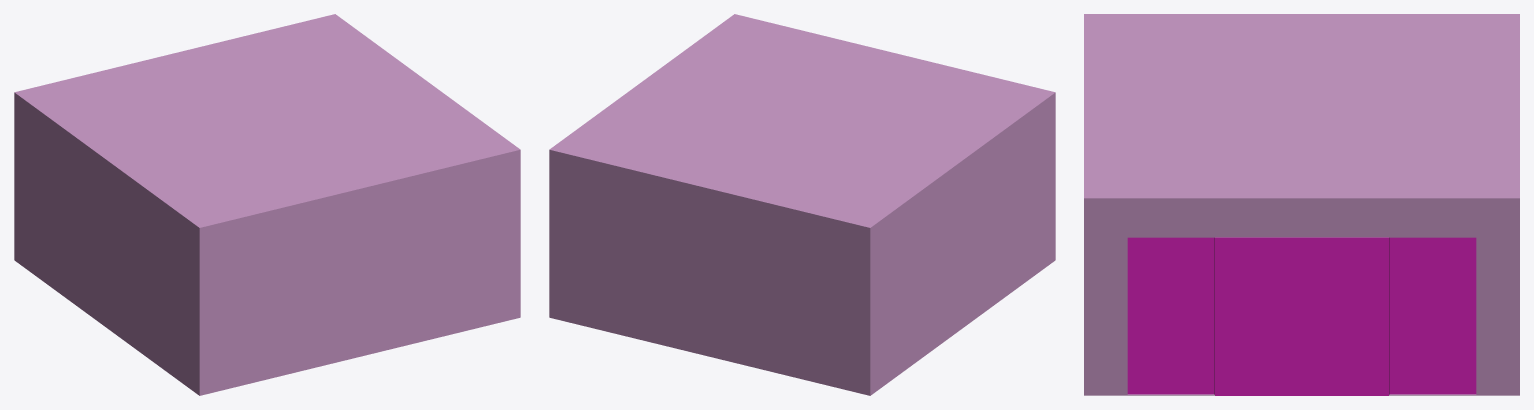
The model's file is start_room.fbx.
The picture shows the model from 3 angles, left to right: view 1: azimuth 30°, elevation 25°; view 2: azimuth 150°, elevation 25°; view 3: azimuth 270°, elevation 25°; orthographic projection. The views are drawn at different scales.
Visible parts, largest first — view 1: start_box_MESH; view 2: start_box_MESH; view 3: start_box_MESH, startbox_door1_COL, startbox_door4_COL, startbox_door2_COL, startbox_door3_COL.
Part boxes in pixels (box(x1,y1,x2,y2)): start_box_MESH: box(14, 14, 520, 395); start_box_MESH: box(549, 14, 1055, 395); start_box_MESH: box(1084, 14, 1519, 395); startbox_door1_COL: box(1127, 237, 1214, 394); startbox_door4_COL: box(1389, 237, 1476, 394); startbox_door2_COL: box(1215, 237, 1301, 395); startbox_door3_COL: box(1302, 237, 1388, 395).
Size of the model in its own units: 2003 by 2000 by 1000.
